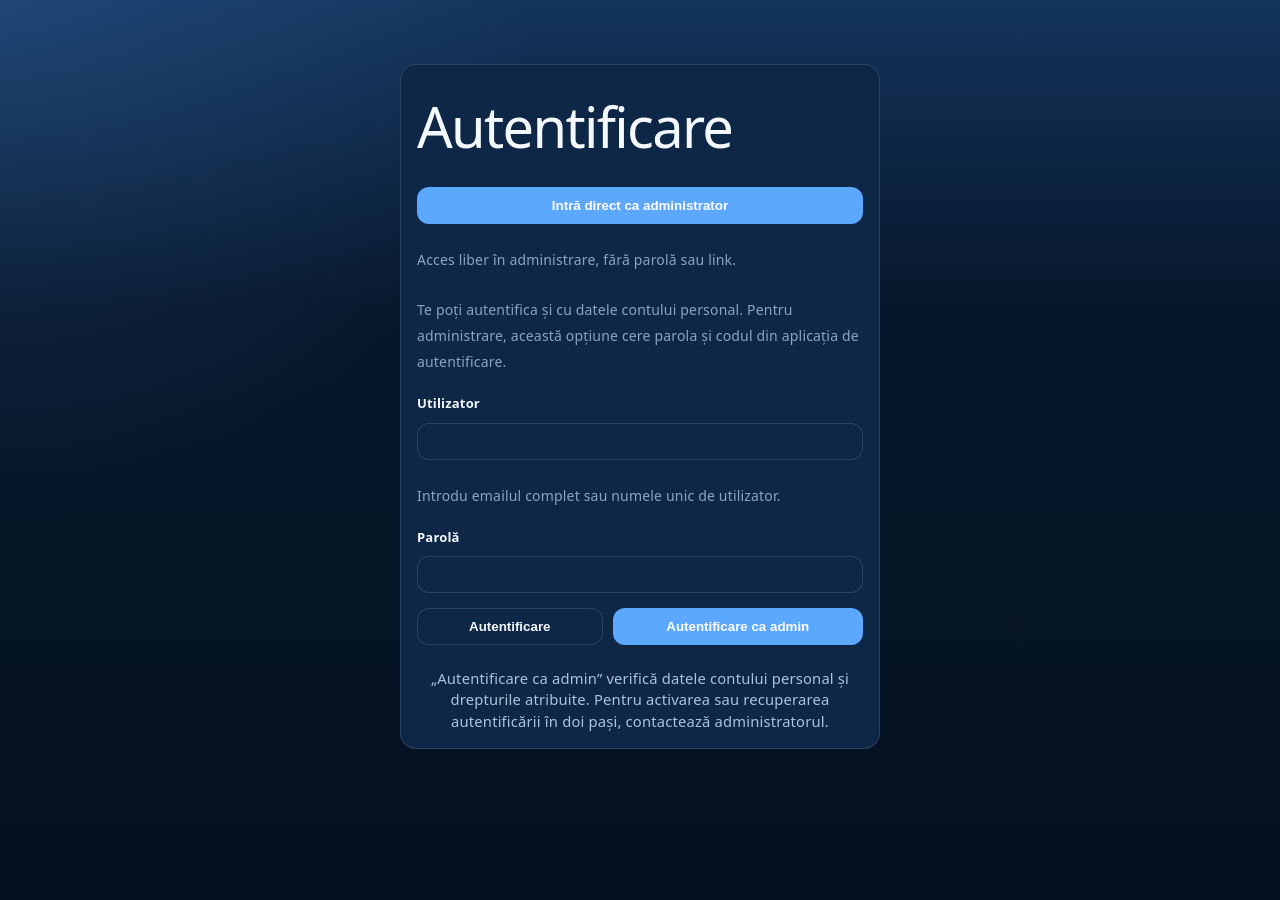
SigninPage › keeps ordinary signin tied to the entered credentials without a fallback
Step 1. Type "cont-personal" into the field labelled "Utilizator" → (640, 441), box [417,423,863,460]
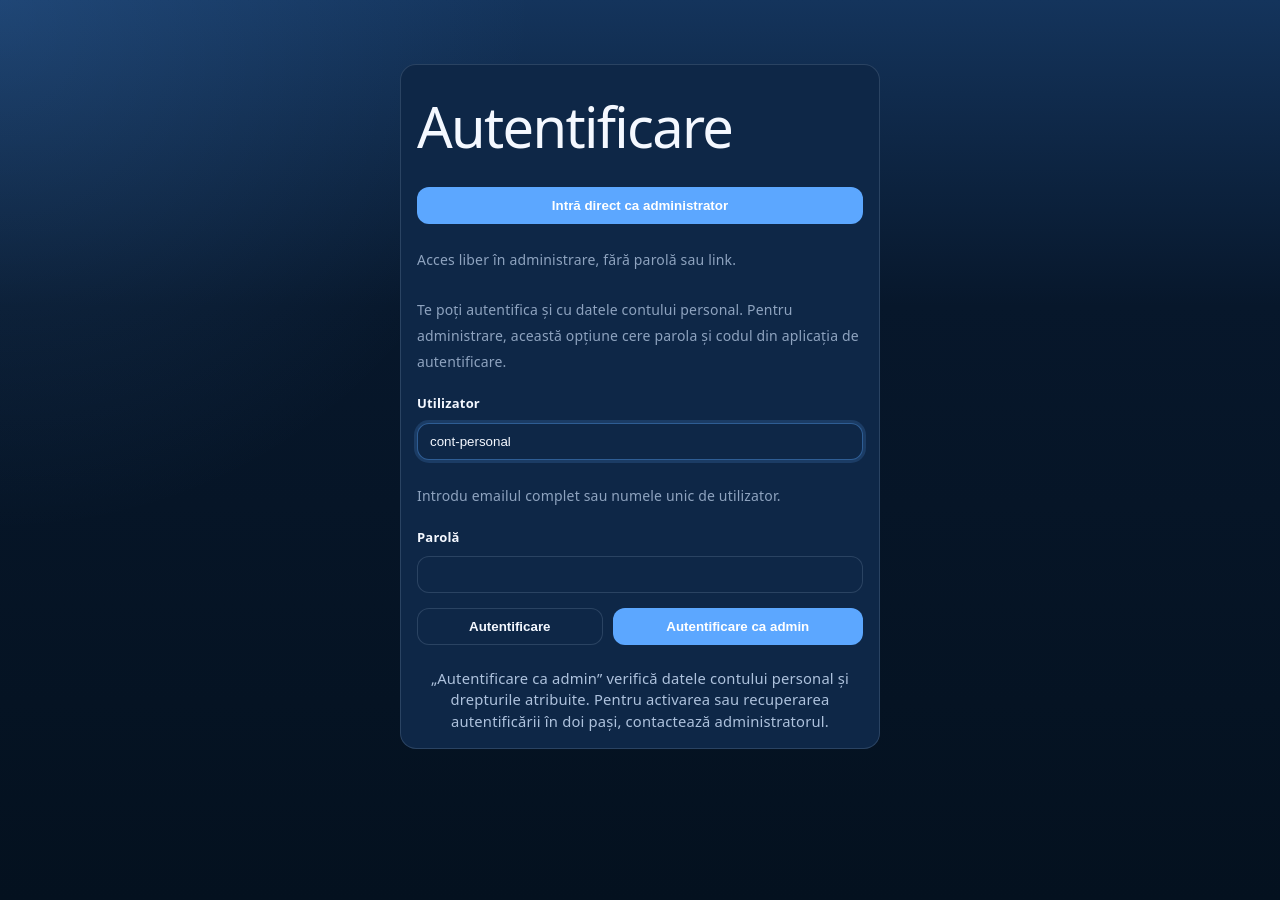
Step 2. Type "ParolaGresita" into the password field labelled "Parolă" → (640, 574), box [417,556,863,593]
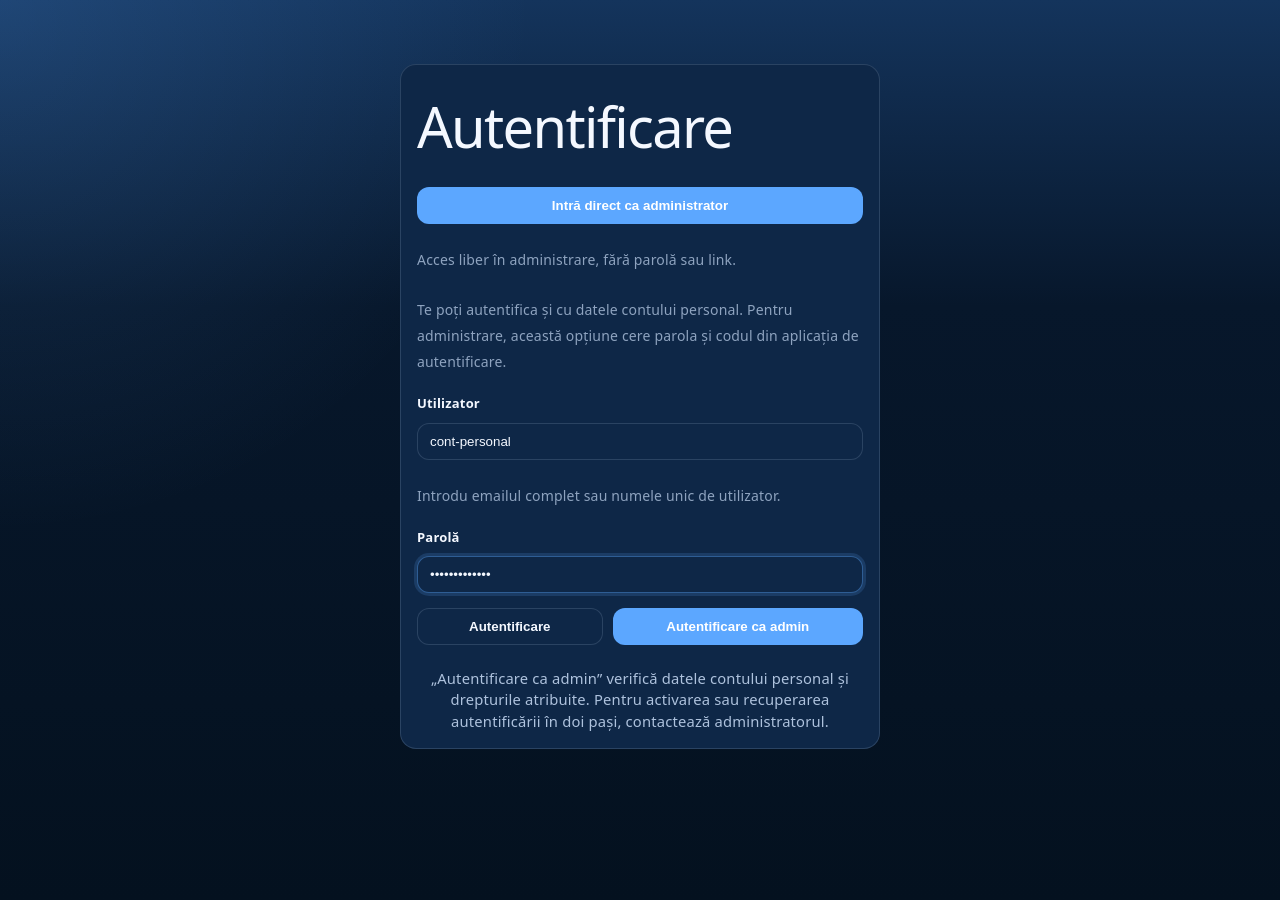
Step 3. Click the button "Autentificare" → (510, 626), box [417,608,602,645]
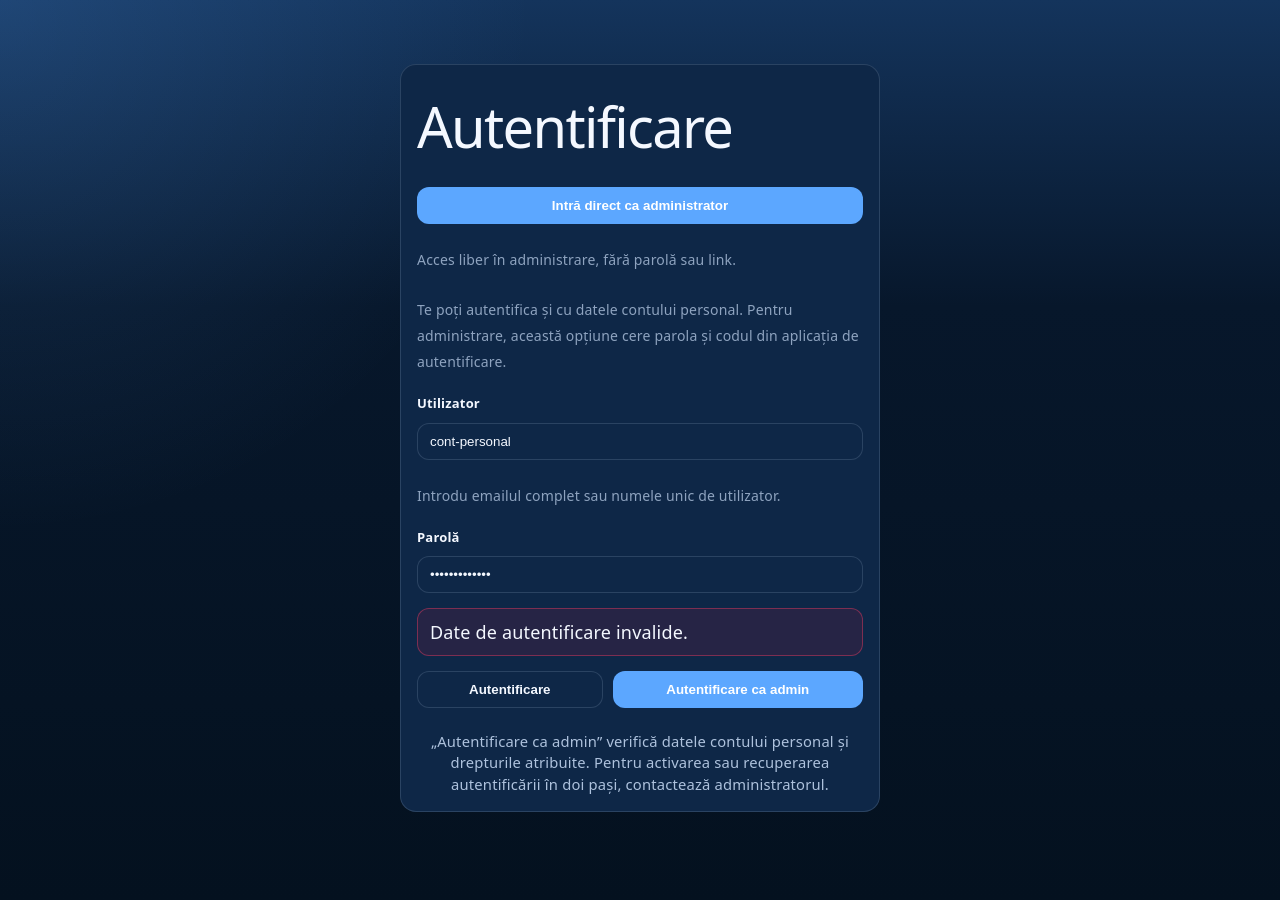
expect the button "Autentificare ca admin" is enabled: met, box [612,671,863,708]
expect the message reads "Date de autentificare invalide.": met, box [430,620,688,644]
